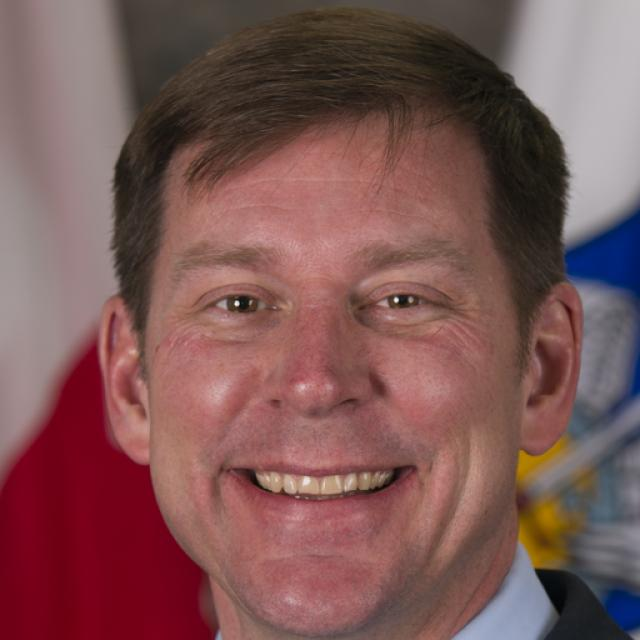Pigmentation: (284, 293, 353, 394)
